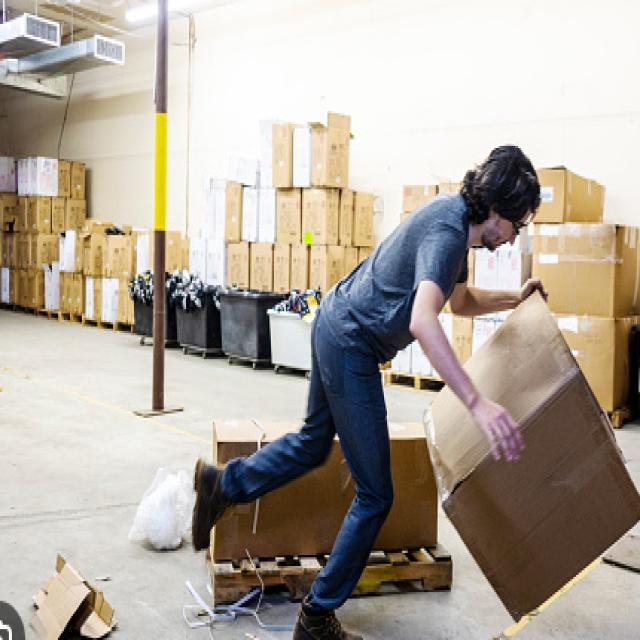shoes: (186, 455, 366, 640)
